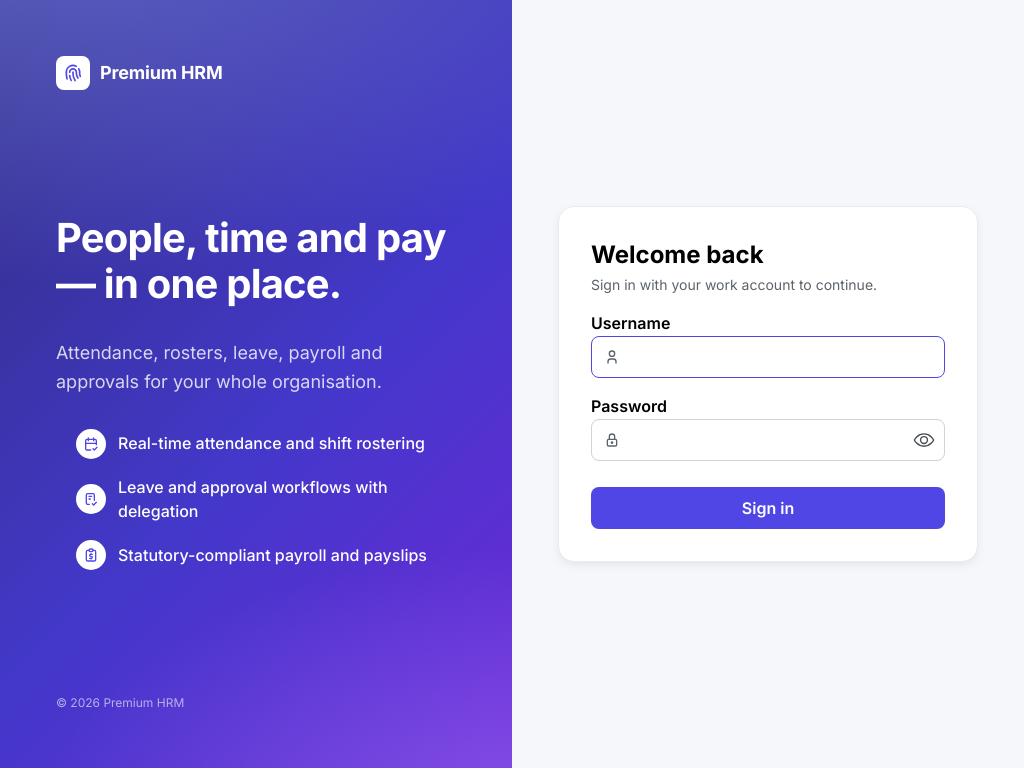
Test: LoginPage › FR-001/FR-003 signs in and redirects to change password when required
Type "admin" into the field labelled "Username" at (768, 357), box [591, 336, 945, 378]
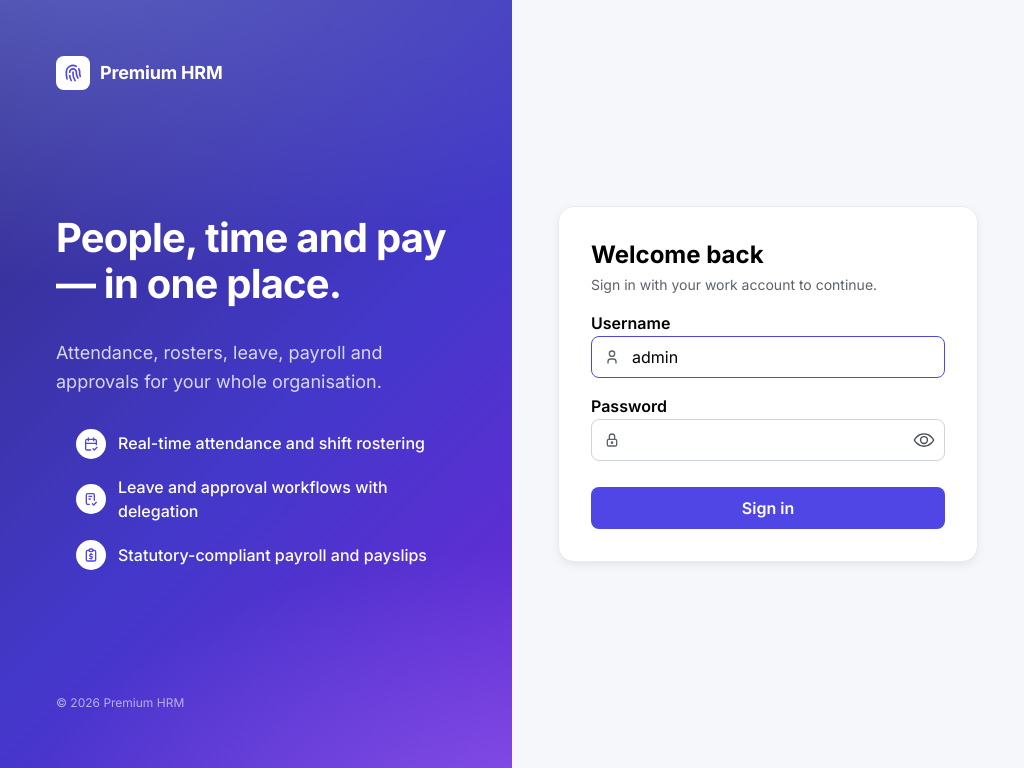
Type "Secret#123456" into the password field labelled "Password" at (768, 440), box [592, 420, 944, 460]
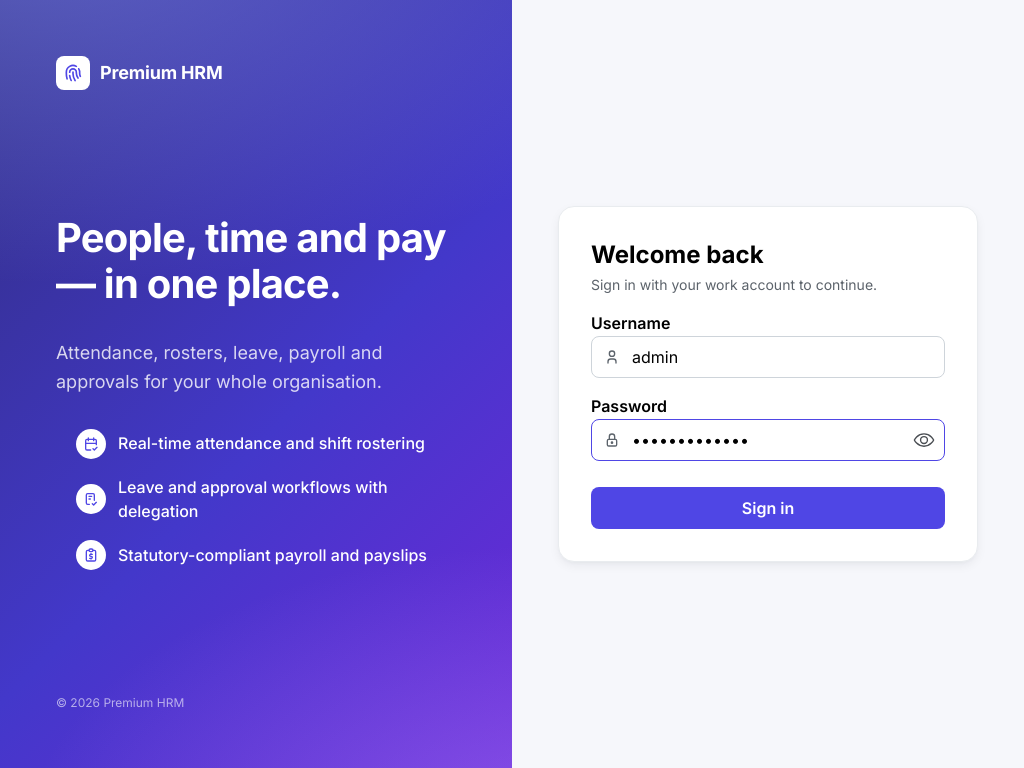
Click the button "Sign in" at (768, 508), box [591, 486, 945, 528]
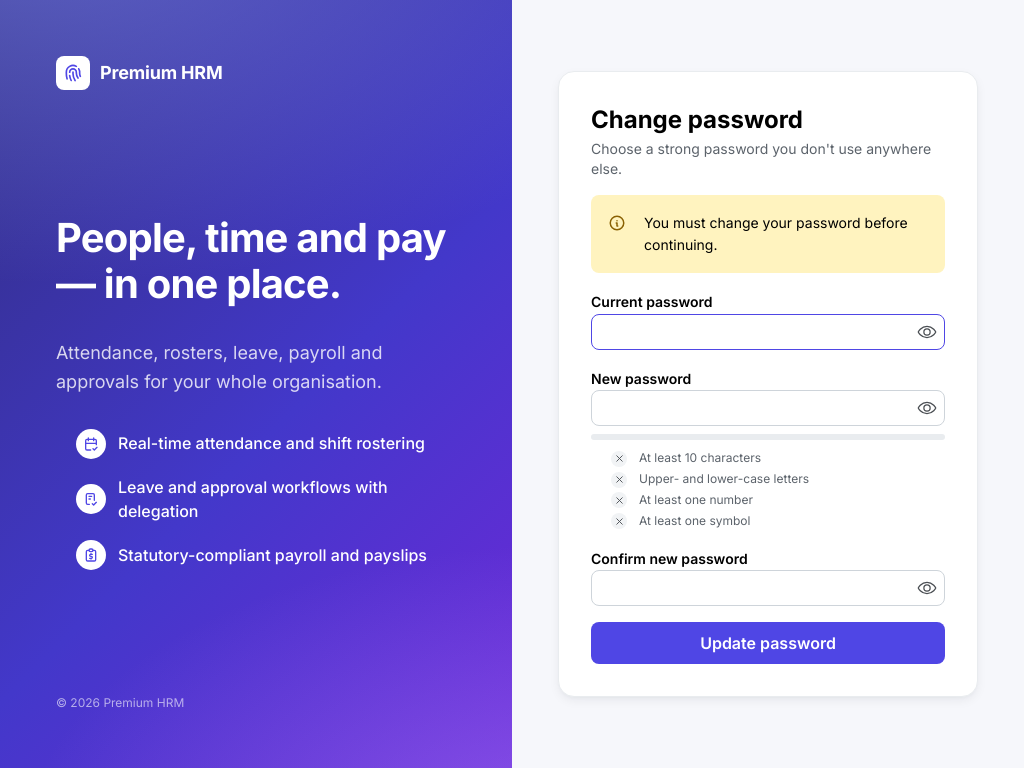
Expected: the text "You must change your password before continuing." is shown, [644, 212, 928, 256]
